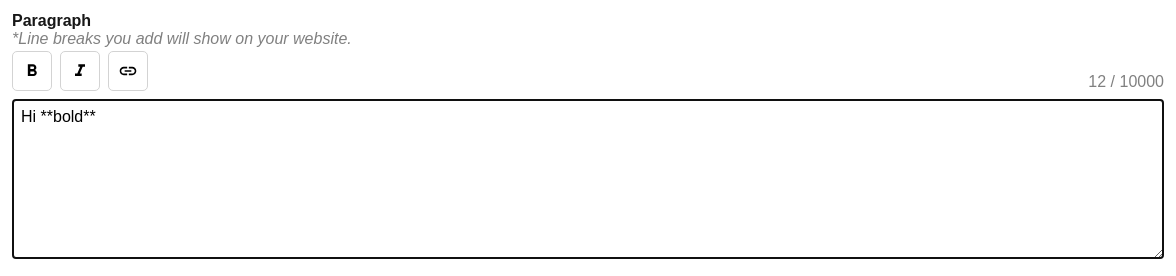
Test: ParagraphField formatting › starts a new pair once a space is typed after a run
Click the button named "Italic text in paragraph 1".
click(80, 71)  # box [60,51,100,91]
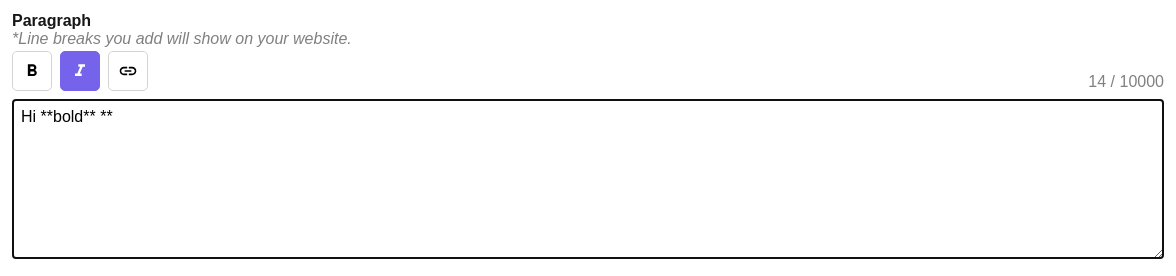
expect the text box labelled "Paragraph" holds "Hi **bold** **": met, box [12,99,1164,259]
